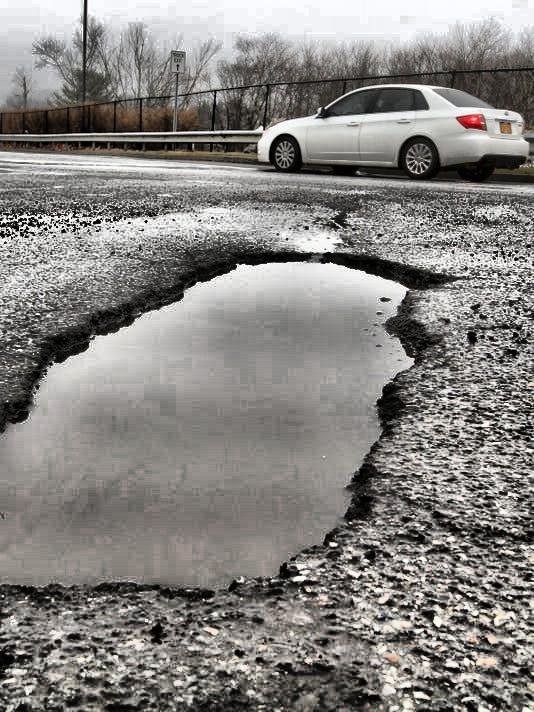pothole: (0, 236, 448, 613)
